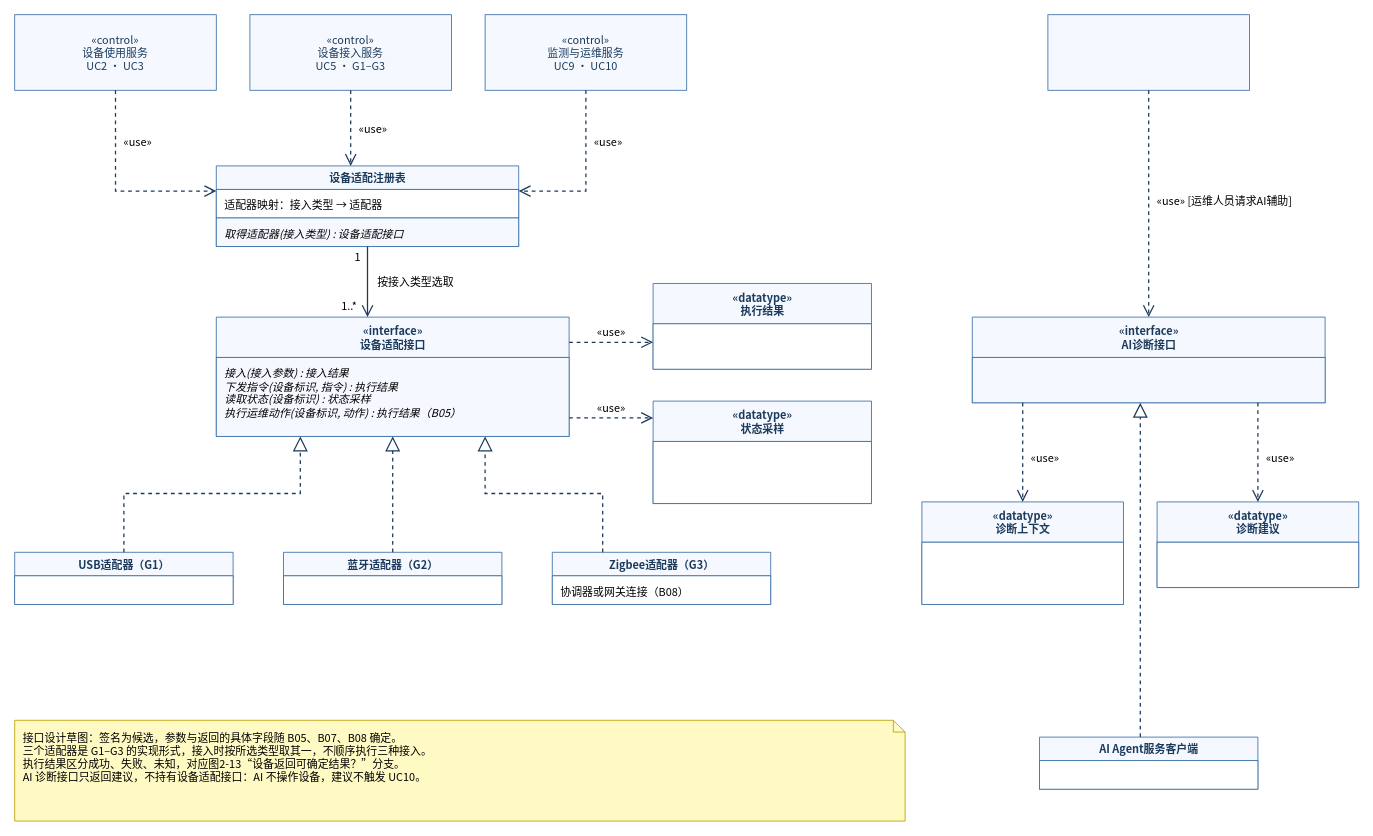
The diagram is 1373 pixels wide and 836 high, and some of its shapes have lost their labels. Each missing label, with the centre of its shape:
"«control» 工单处理服务 UC11 · EXT2" belongs at point 1148,52.
"串口或 HID 参数（B08）" belongs at point 123,589.
"工单描述 设备类型与近期状态 字段与脱敏（B07）" belongs at point 1022,572.
"建议内容 是否留存（B07）" belongs at point 1257,564.
"提供方与协议（B07）" belongs at point 1148,774.
"是否取得 原始读数（随设备，B08） 采样时间" belongs at point 762,472.
"结果：成功 / 失败 / 未知 设备返回信息" belongs at point 762,346.
"蓝牙地址与服务标识（B08）" belongs at point 392,589.
"请求诊断(诊断上下文) : 诊断建议 超时或失败时返回“辅助不可用”" belongs at point 1148,380.
